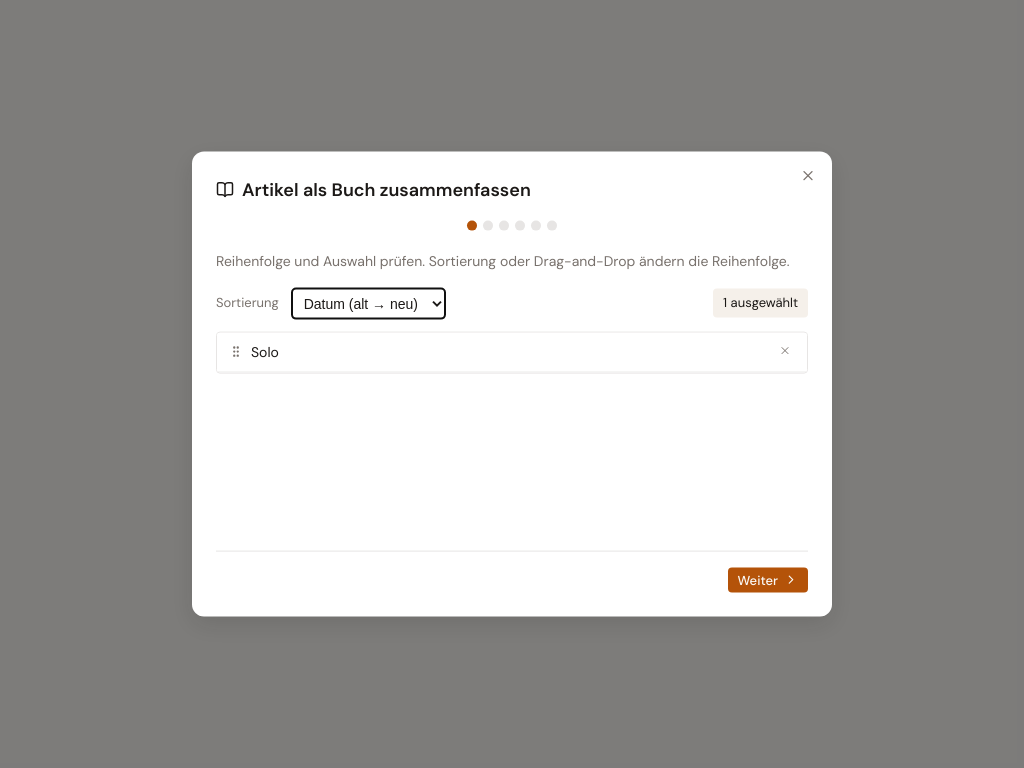
Test: ConvertToBookWizard author datalist (Bug 8 Phase 2) › pre-fills author from a single-article selection
Step 1. Click the button with test id "convert-to-book-wizard-step-0-next" → (768,580), box [728, 567, 808, 592]
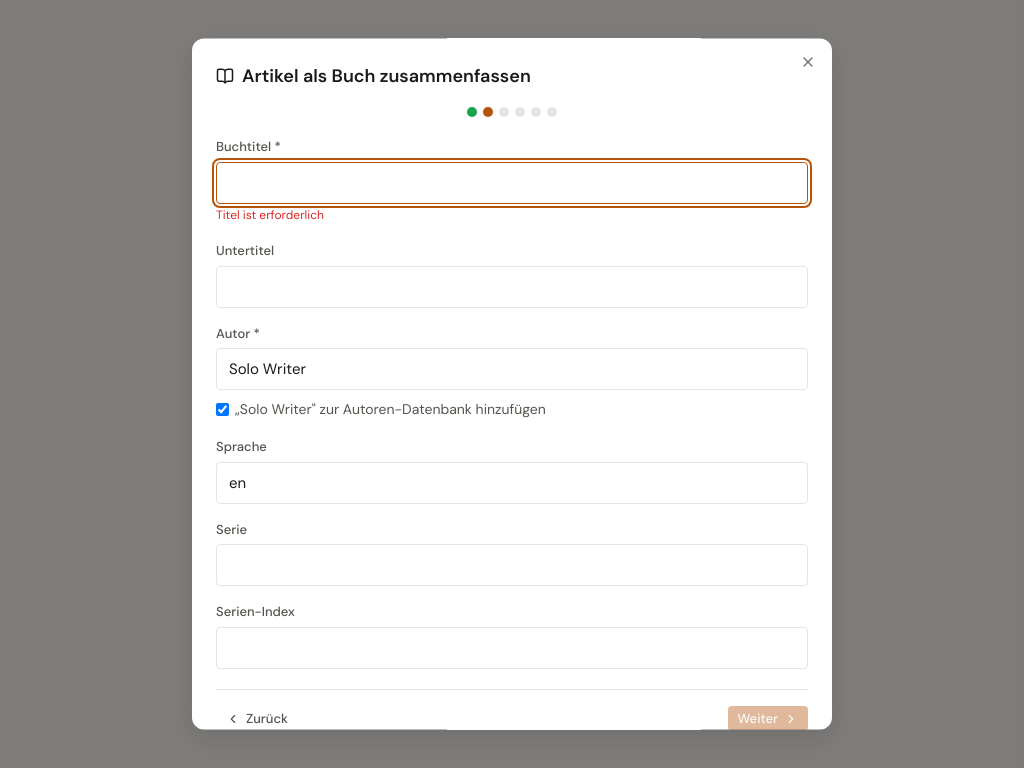
Expected: the field with test id "convert-to-book-wizard-metadata-author" holds "Solo Writer", [216, 349, 808, 391]
